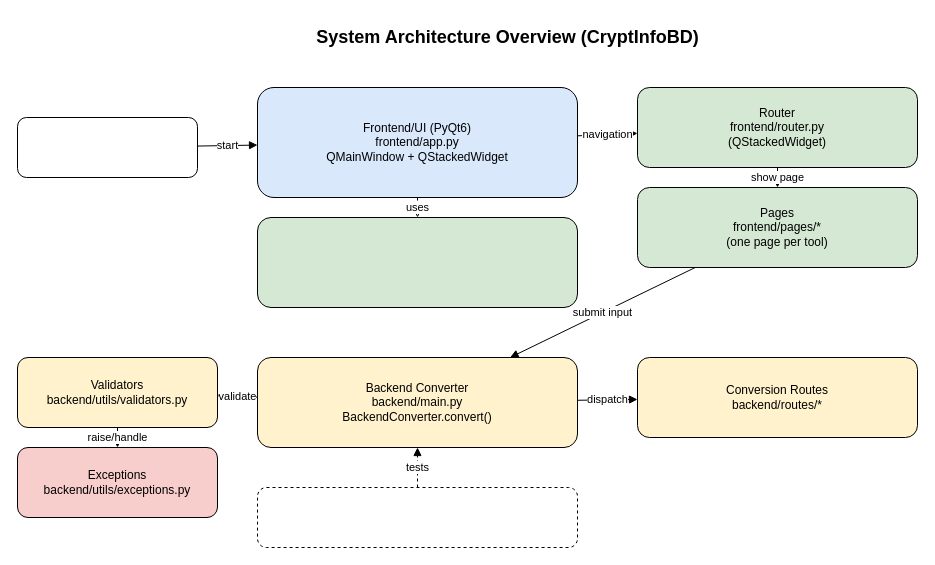
Image size: 935x565. Some labels were removed from this diagram. The centre of each missing label's shape, as x and y in pixels:
"Launcher run.py" goes at point (107, 147).
"Reusable Components frontend/components/* (dropdown, input/output, error)" goes at point (417, 262).
"Testing test_backend.py" goes at point (417, 517).
